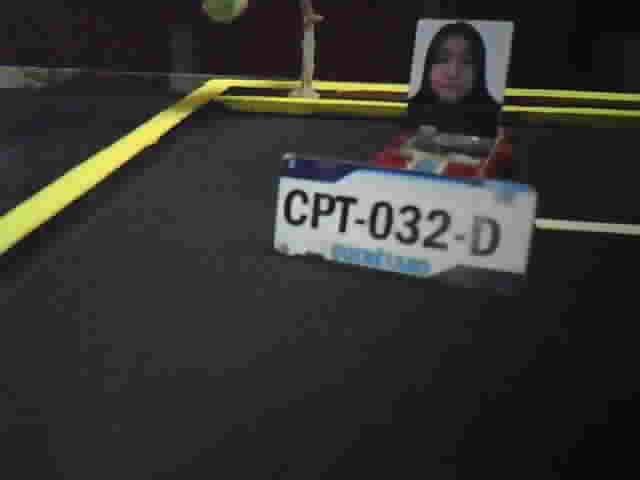PLACA: (270, 150, 539, 298)
ROSTRO: (408, 21, 501, 133)
